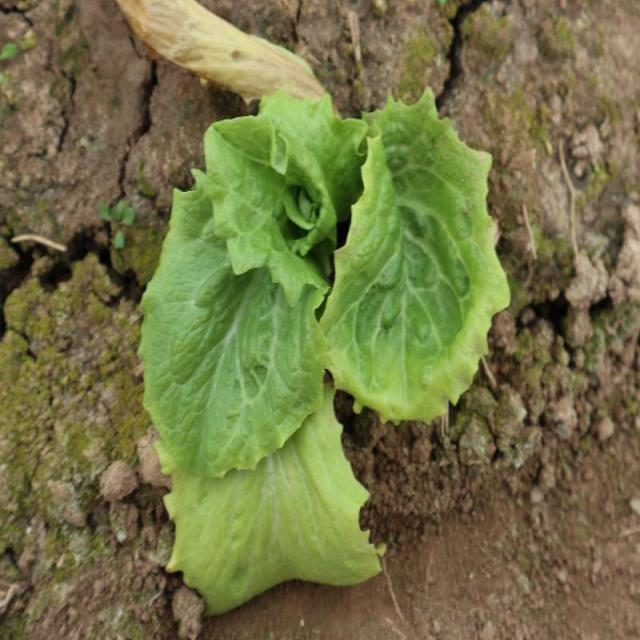crop: (143, 94, 512, 605)
